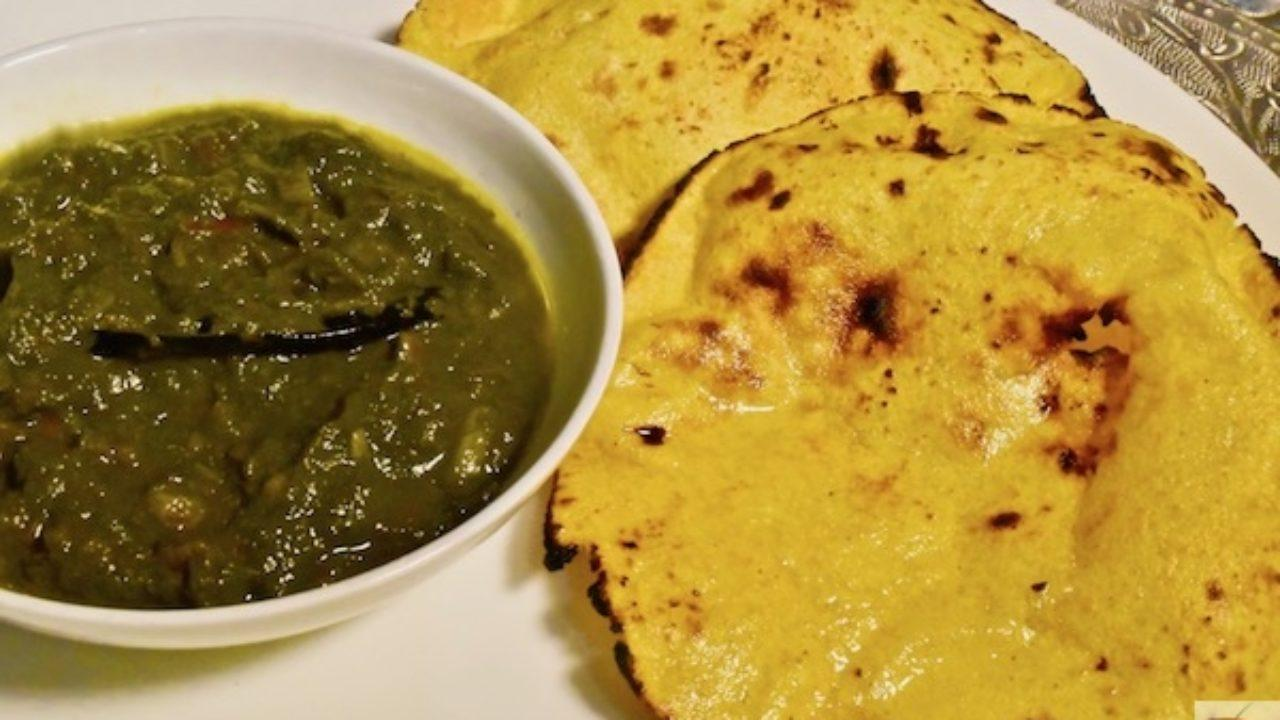saag: (4, 152, 519, 609)
